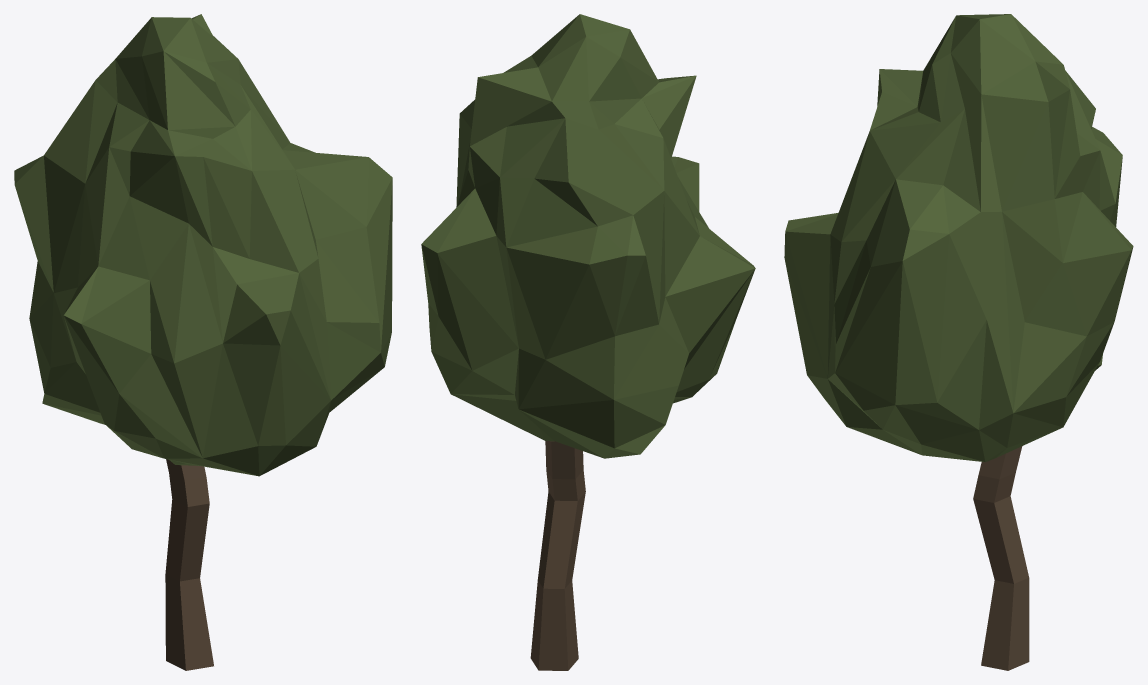
File: Tree_061.fbx
3 views of the same model, side by side, from view 1: azimuth 30°, elevation 25°; view 2: azimuth 150°, elevation 25°; view 3: azimuth 270°, elevation 25° (orthographic). The views are drawn at different scales.
Parts seen in each view (by area): view 1: Tree_061; view 2: Tree_061; view 3: Tree_061.
Part boxes in pixels (<box>): Tree_061: <box>14,14,392,670</box>; Tree_061: <box>421,14,755,670</box>; Tree_061: <box>784,14,1133,670</box>.
Size of the model in its own units: 0.7925 by 1.57 by 0.7835.
1 material, 1 textured.
